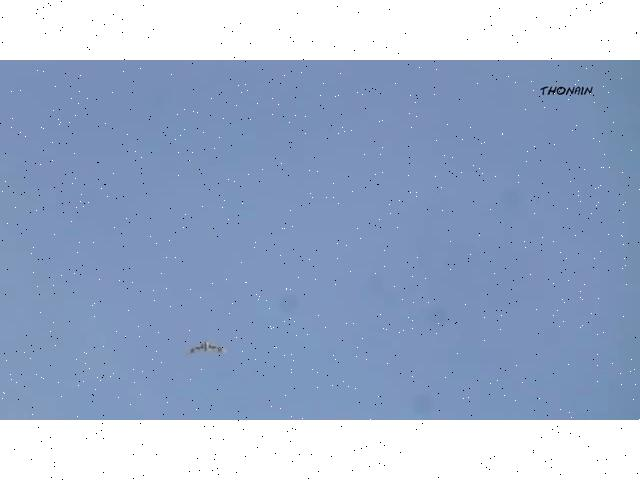Anti-Drone: (188, 343, 226, 353)
